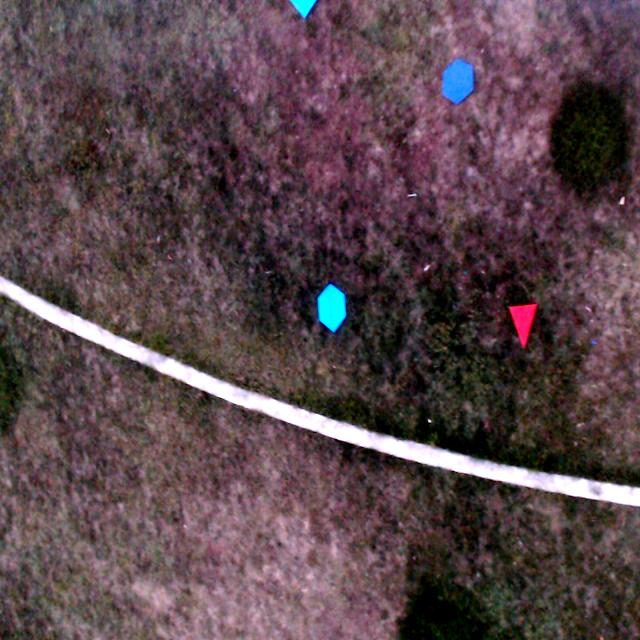blue_hexagon: (443, 57, 476, 106), (318, 282, 347, 333)
red_triangle: (507, 302, 538, 350)
